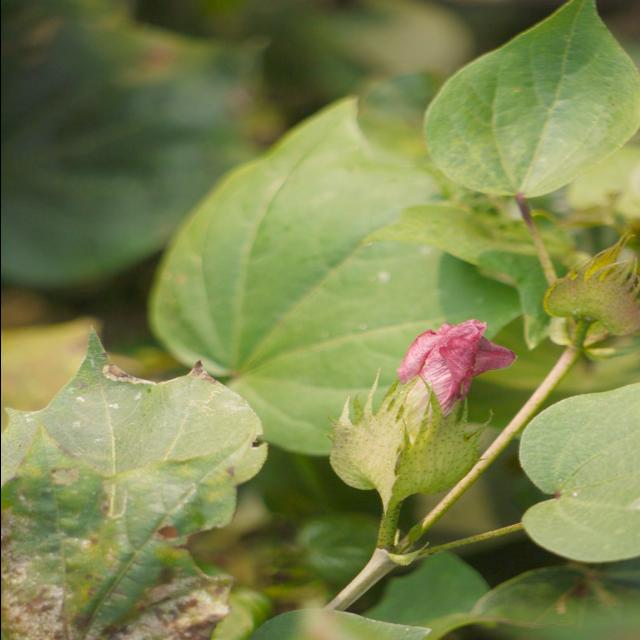Cotton Blossom: (316, 324, 514, 492)
Cotton Bud: (528, 240, 640, 344)
